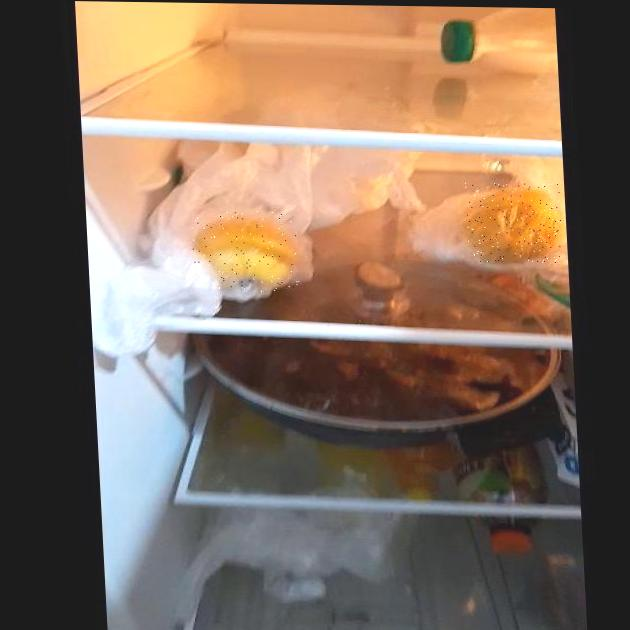lemon: (191, 210, 300, 293), (465, 183, 563, 263)
